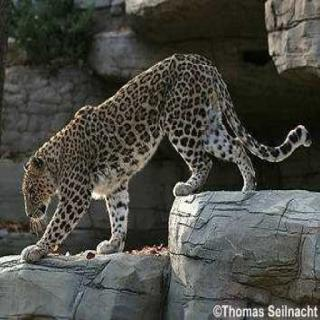Leopard: (12, 38, 260, 260)
